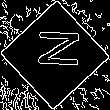N_W: (29, 34, 81, 76)
